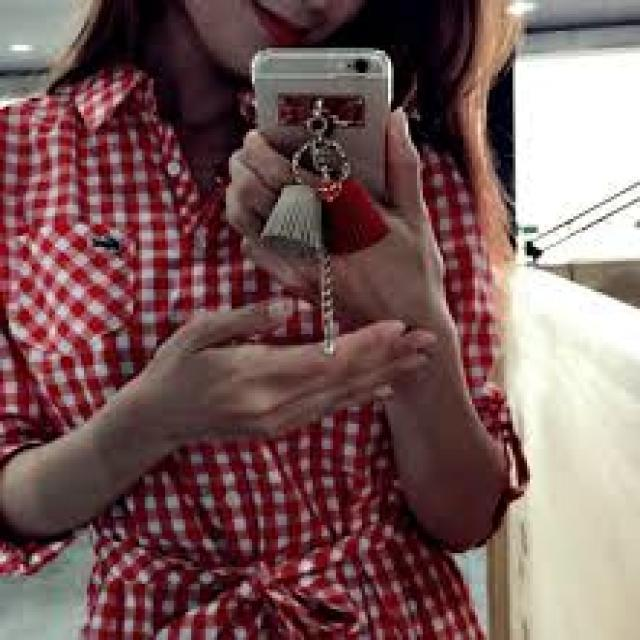Phone: (249, 44, 396, 199)
